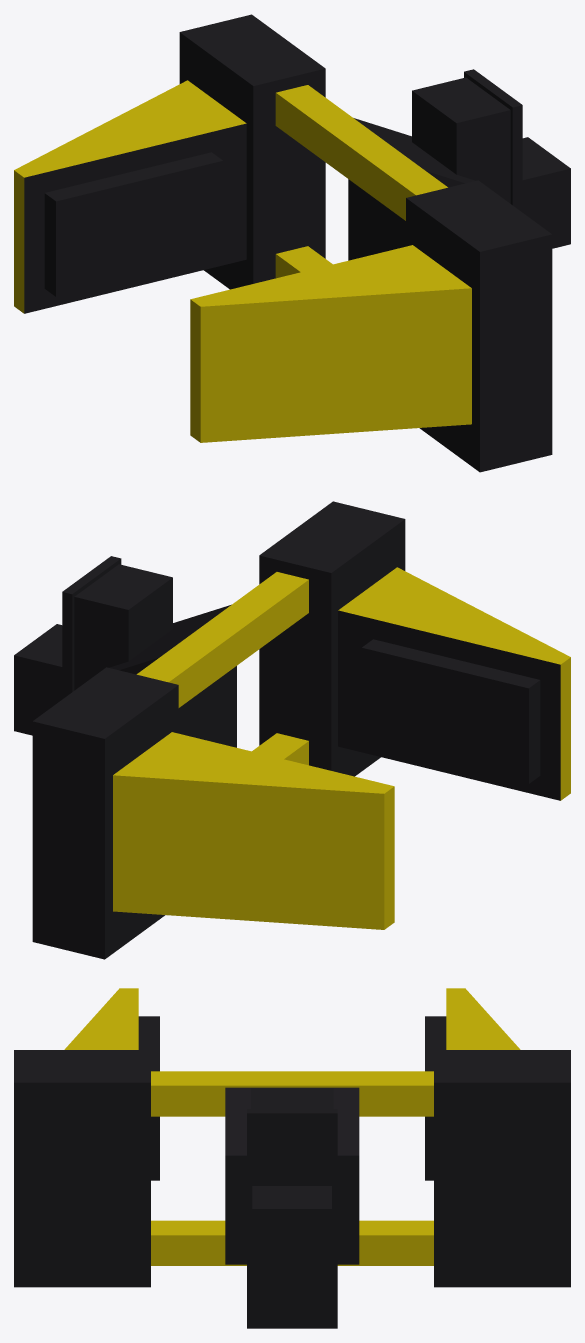
File: RobotArmHand.fbx
3 views of the same model, one above another, from view 1: azimuth 30°, elevation 25°; view 2: azimuth 150°, elevation 25°; view 3: azimuth 270°, elevation 25° (orthographic). The views are drawn at different scales.
Parts seen in each view (by area): view 1: pCube212, pCube216, pCube217; view 2: pCube216, pCube212, pCube217; view 3: pCube217, pCube216, pCube212.
Part boxes in pixels (x1,y1,x2,y2): pCube212: [190, 180, 552, 472]; pCube216: [14, 14, 325, 313]; pCube217: [275, 69, 570, 278]; pCube216: [32, 667, 394, 959]; pCube212: [259, 501, 570, 800]; pCube217: [14, 556, 308, 765]; pCube217: [151, 1071, 433, 1328]; pCube216: [425, 988, 570, 1287]; pCube212: [14, 988, 159, 1287].
Bounding box in the file's own units: 2.28 × 1.15 × 2.68.
